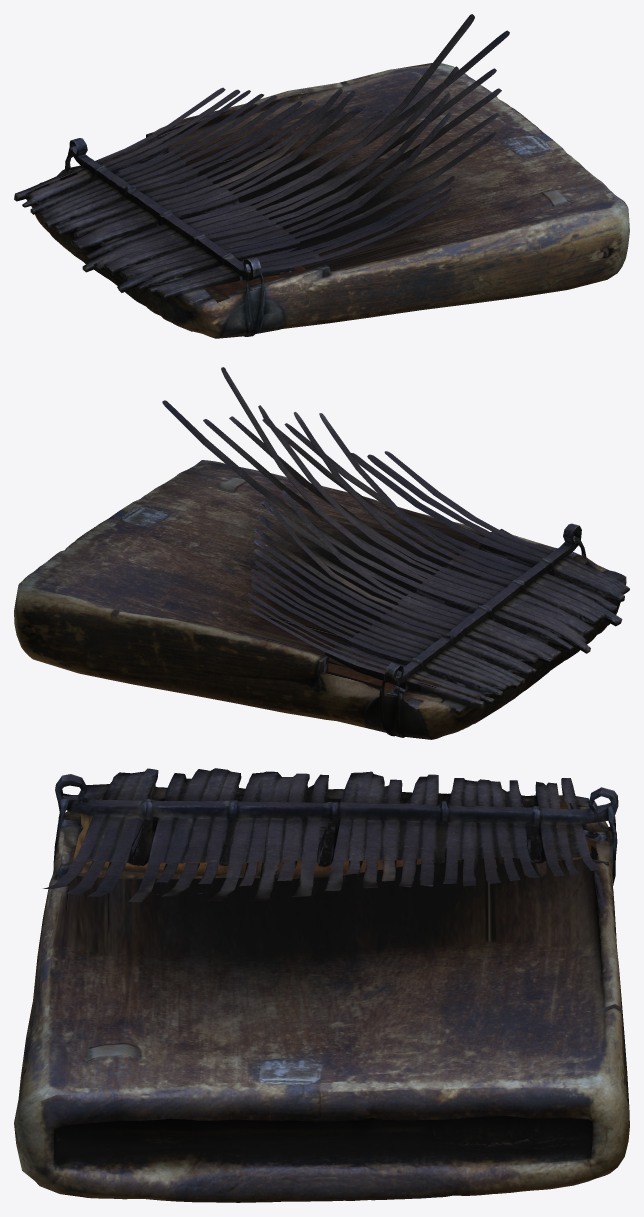
The model's file is MBIRA_Modular.glb.
3 renders of one model, top to bottom at view 1: azimuth 30°, elevation 25°; view 2: azimuth 150°, elevation 25°; view 3: azimuth 270°, elevation 25°, orthographic. The views are drawn at different scales.
Visible parts, largest first — view 1: BSurfaceMesh, L_5x, B_4, L_1, B_6, B_7, B_2, L_5, B_3, L_4, RT_1, RT_7 (+14 smaller); view 2: BSurfaceMesh, B_4, L_5x, L_1, B_6, L_5, B_7, L_4, B_2, LI_6, B_3, RT_6 (+11 smaller); view 3: BSurfaceMesh, B_6.
Part boxes in pixels (x1,y1,x2,y2): BSurfaceMesh: (14,63,629,338); L_5x: (251,14,474,208); B_4: (244,30,509,204); L_1: (264,66,458,218); B_6: (258,68,496,214); B_7: (270,88,501,222); B_2: (284,113,499,232); L_5: (279,92,450,226); B_3: (296,131,497,241); L_4: (291,112,451,237); RT_1: (235,110,386,197); RT_7: (216,88,342,186); BSurfaceMesh: (14,460,629,739); B_4: (162,400,420,587); L_5x: (221,367,426,582); L_1: (258,405,438,573); B_6: (203,419,433,578); L_5: (293,412,449,562); B_7: (229,416,442,570); L_4: (319,413,464,553); B_2: (262,419,457,559); LI_6: (351,453,484,542); B_3: (284,423,471,549); RT_6: (281,490,405,599); BSurfaceMesh: (14,768,629,1202); B_6: (251,862,278,900).
Size of the model in its own units: 3.27 by 1.56 by 2.45.
1 material, 1 textured.
